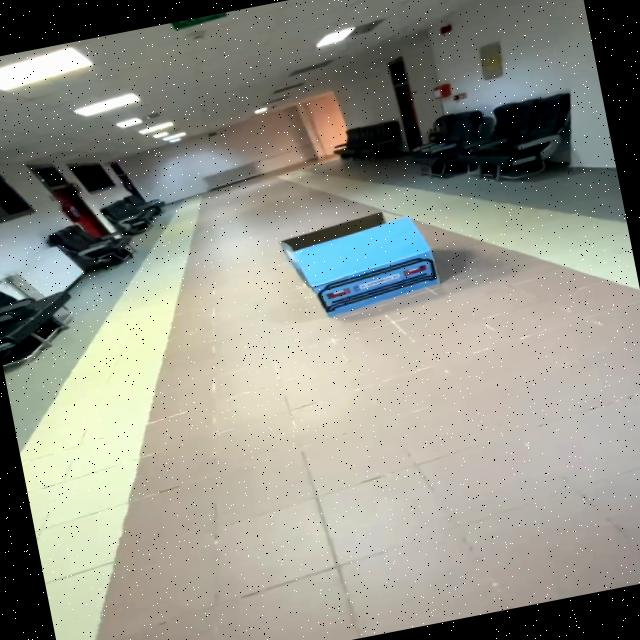blue_car: (259, 191, 471, 342)
